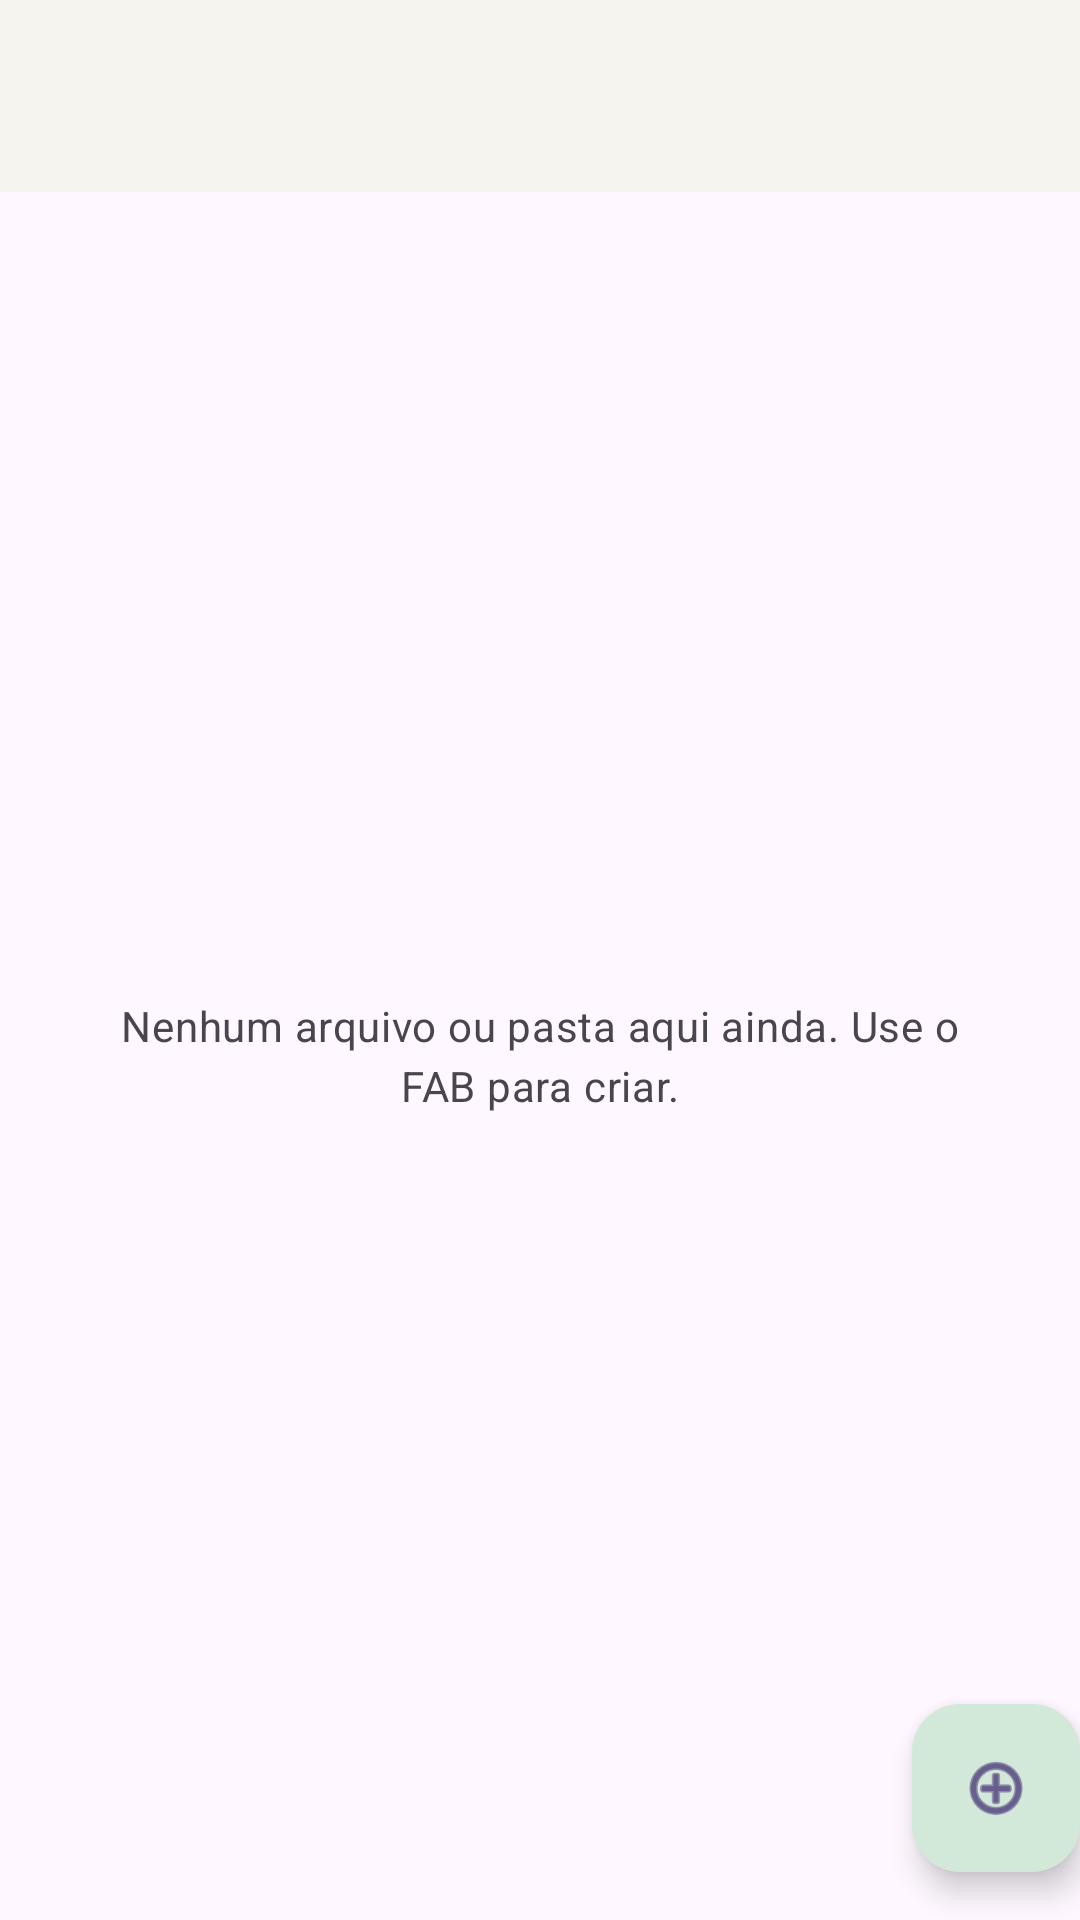

Icons on this 1080w x 1920h Android screen, each with the point to tap as (x,y):
Criar arquivo ou pasta: (996,1788)
